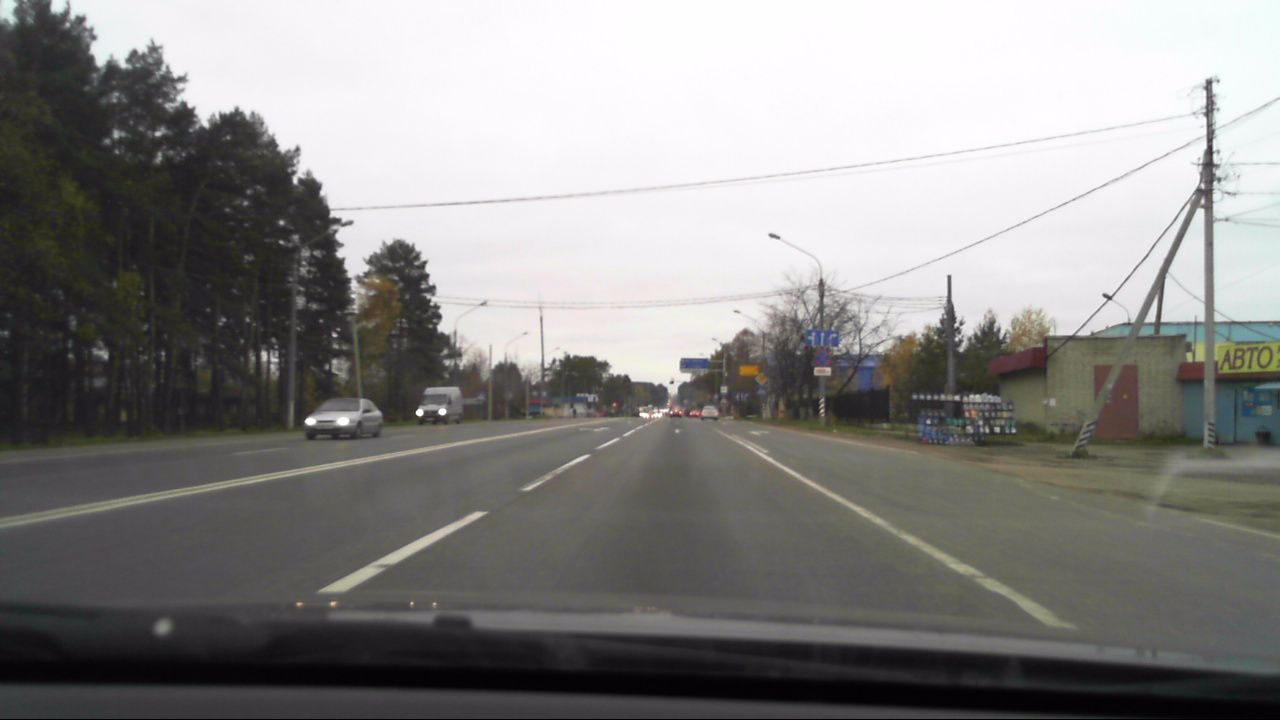No Parking: (813, 349, 830, 366)
